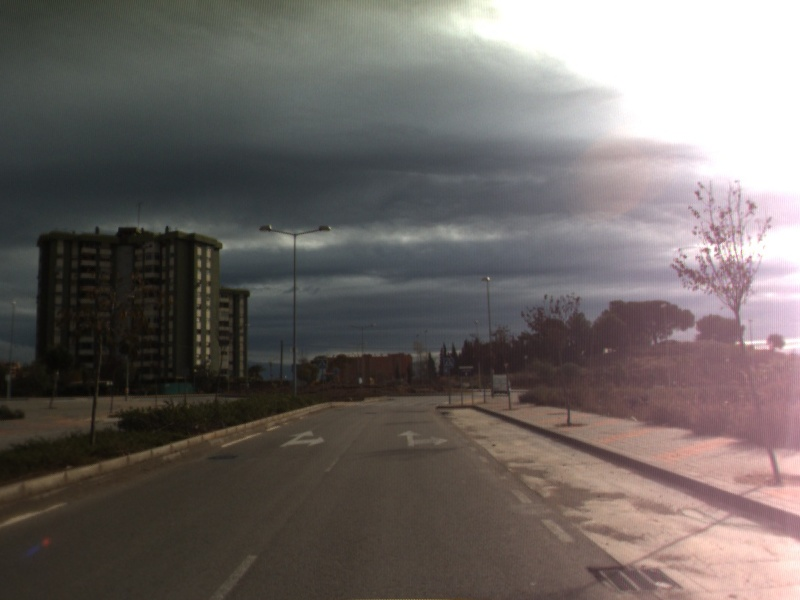STRAIGHT_RIGHT: (396, 428, 450, 448), (278, 428, 327, 450)
